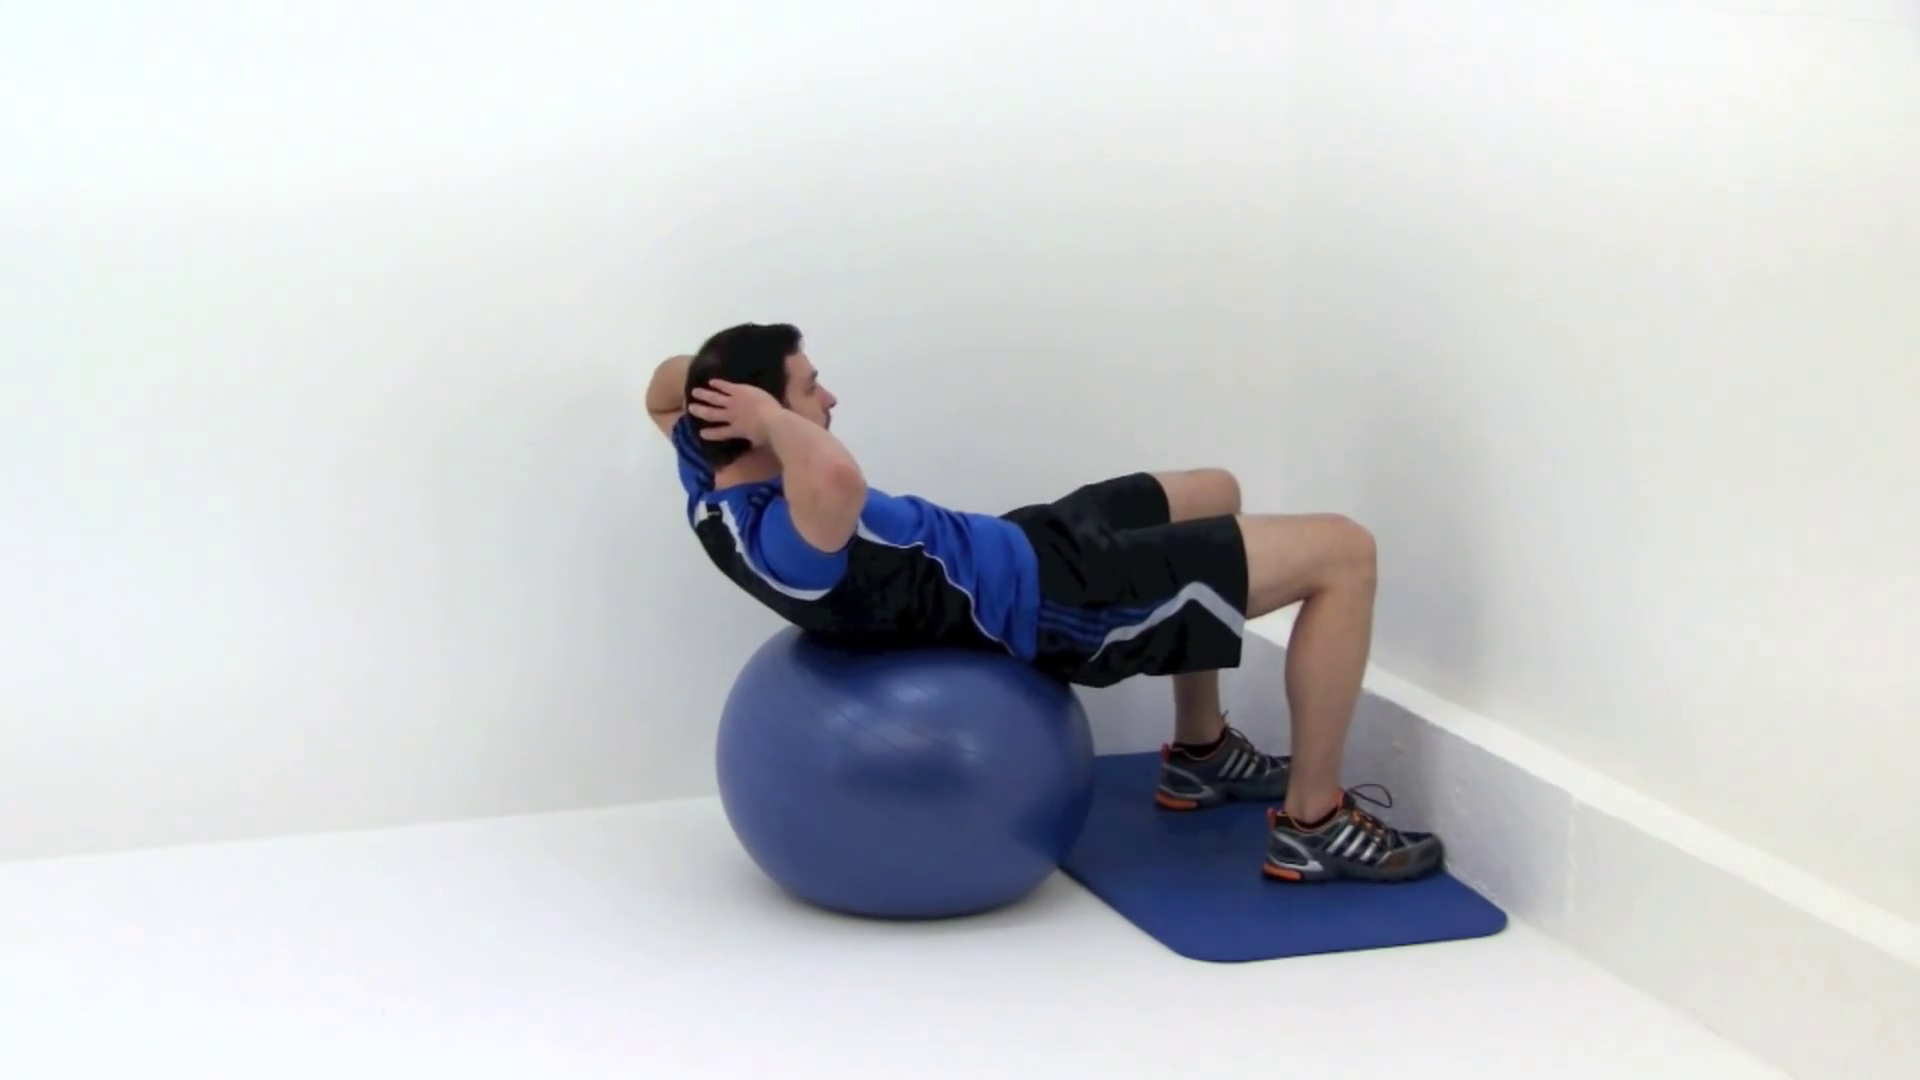yogaball: (688, 615, 1106, 932)
